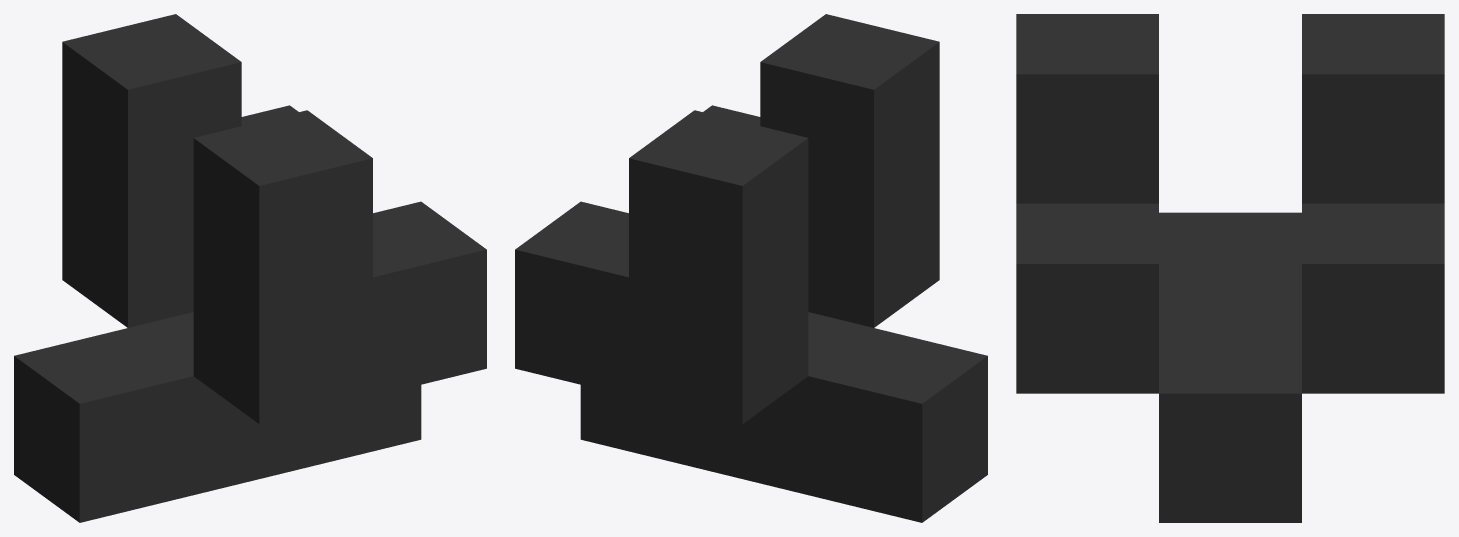
The model's file is bat-7-walk.obj.
The picture shows the model from 3 angles, left to right: view 1: azimuth 30°, elevation 25°; view 2: azimuth 150°, elevation 25°; view 3: azimuth 270°, elevation 25°; orthographic projection. The views are drawn at different scales.
Parts seen in each view (by area): view 1: walk; view 2: walk; view 3: walk.
Boxes of the visible parts, left/top/right/bottom form: walk: left=14, top=14, right=486, bottom=522; walk: left=515, top=14, right=987, bottom=522; walk: left=1016, top=14, right=1444, bottom=522.
Bounding box in the file's own units: 0.3 × 0.3 × 0.3.
1 material, 1 textured.
